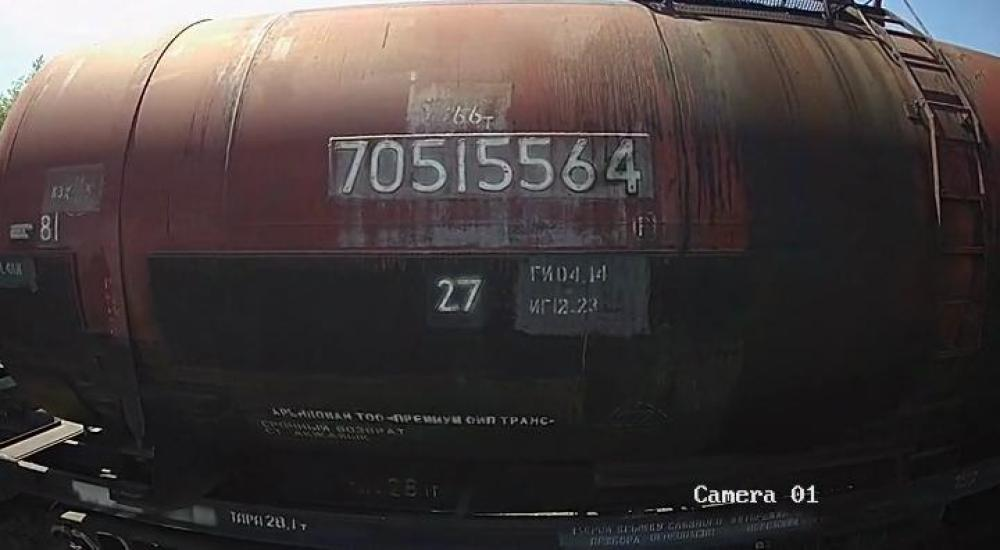Wagon-number: (331, 134, 645, 200)
